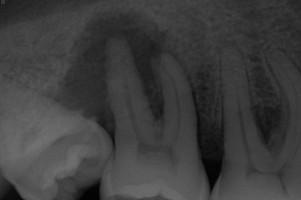Dental Caries: (58, 9, 169, 136)
Endo-Periodontal Lesion: (253, 103, 283, 145)
